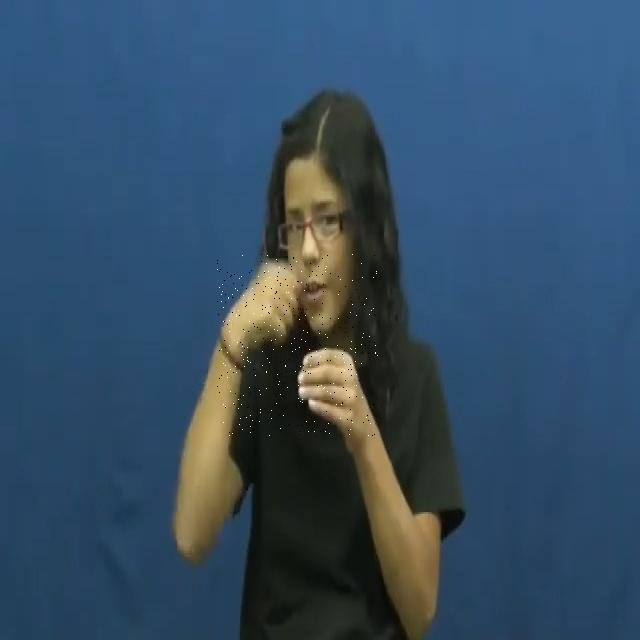yoghurt: (217, 254, 378, 436)
